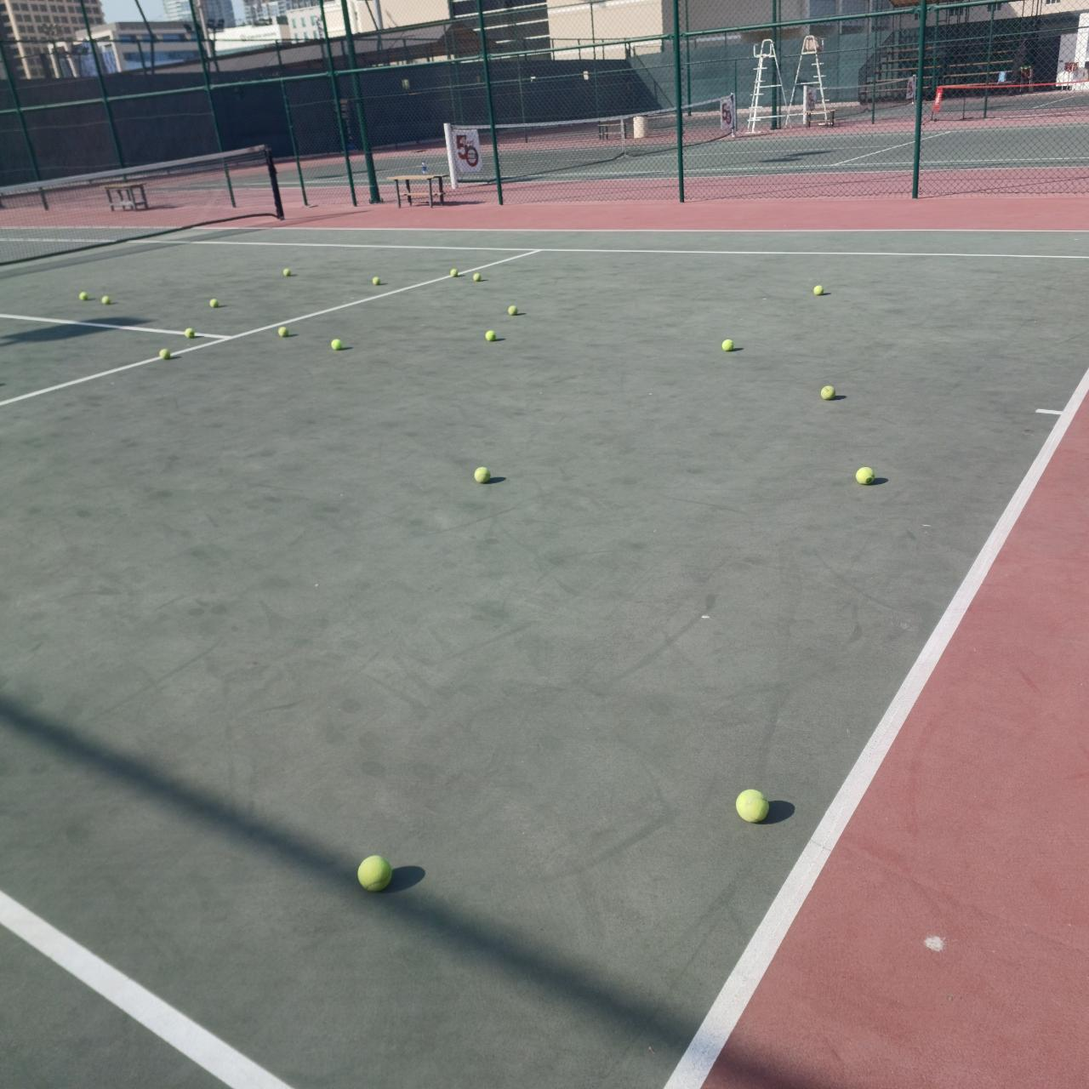tennis-ball: (356, 852, 392, 892), (733, 785, 769, 824), (853, 464, 874, 484), (474, 466, 491, 485), (818, 383, 835, 400), (720, 336, 733, 351), (158, 348, 172, 360), (812, 282, 823, 294), (485, 331, 497, 342), (331, 339, 342, 351), (278, 326, 289, 337), (184, 327, 195, 338), (209, 297, 219, 308), (78, 291, 89, 301), (508, 305, 518, 315), (371, 276, 381, 286), (282, 267, 292, 276), (102, 295, 111, 305), (473, 274, 482, 282), (450, 268, 458, 277)
